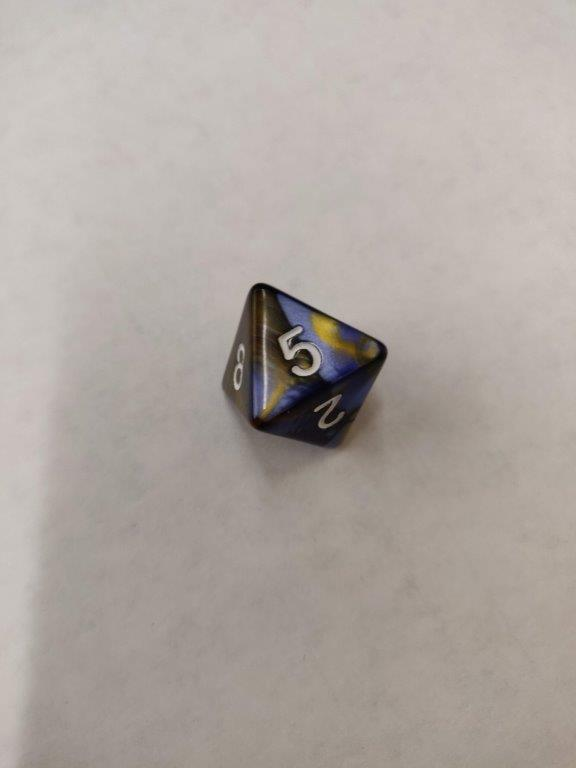d8-5: (221, 281, 389, 453)
